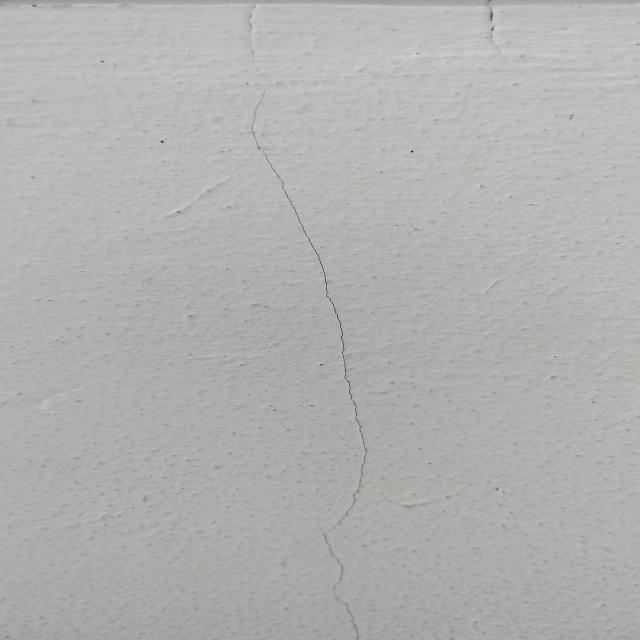Crack: (229, 56, 373, 639)
